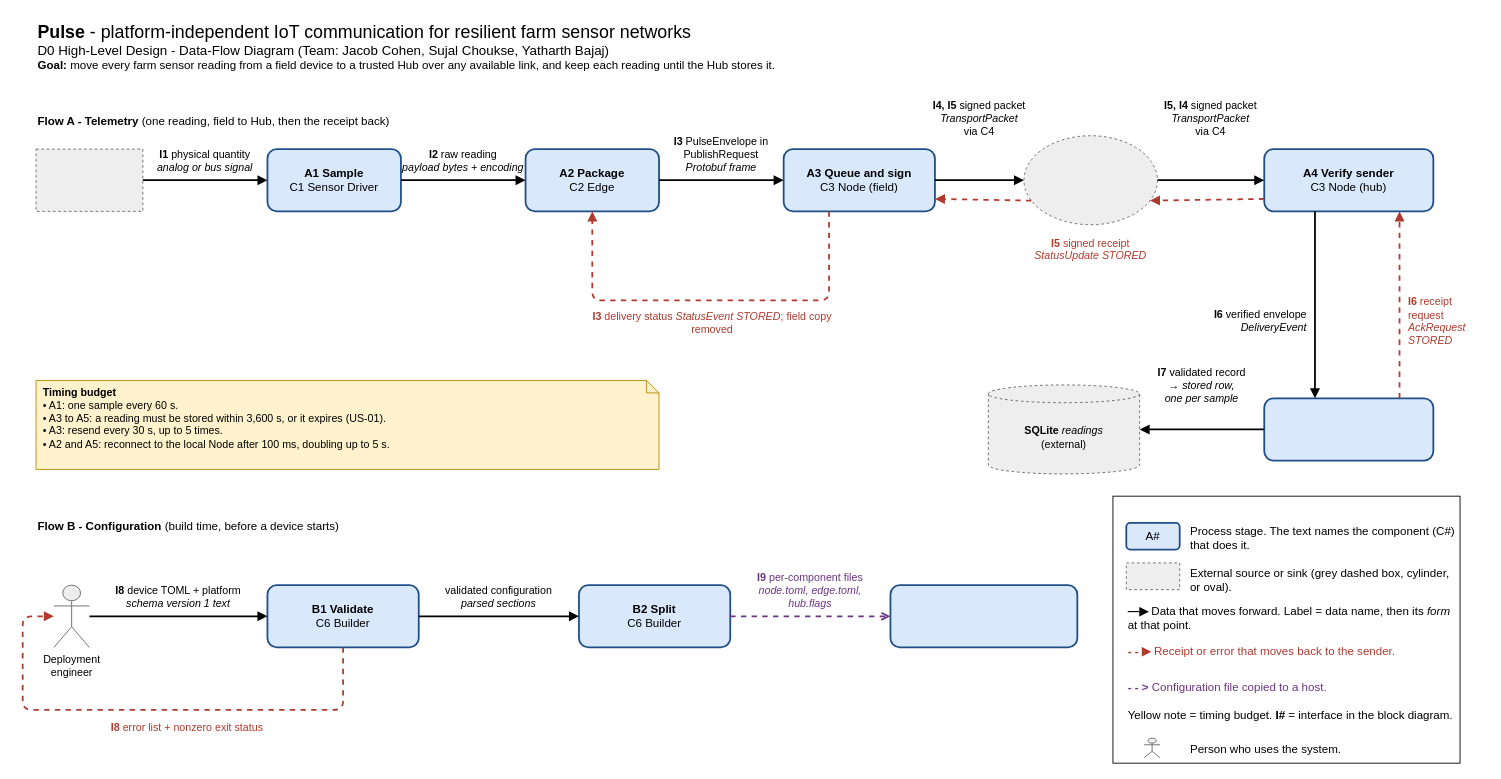
Image size: 1501x779. Some labels were removed from this diagram. Here are the shapes that lost their labels. From the top down, the box of each, then its label:
(35, 148, 143, 211): Field sensor (external)
(1023, 135, 1157, 225): Radio / IP link (external)
(1263, 397, 1434, 461): A5 Decode, check, store C5 Hub
(889, 584, 1078, 648): B3 Start C3 Node, C2 Edge, C5 Hub
(1112, 495, 1460, 763): Legend
